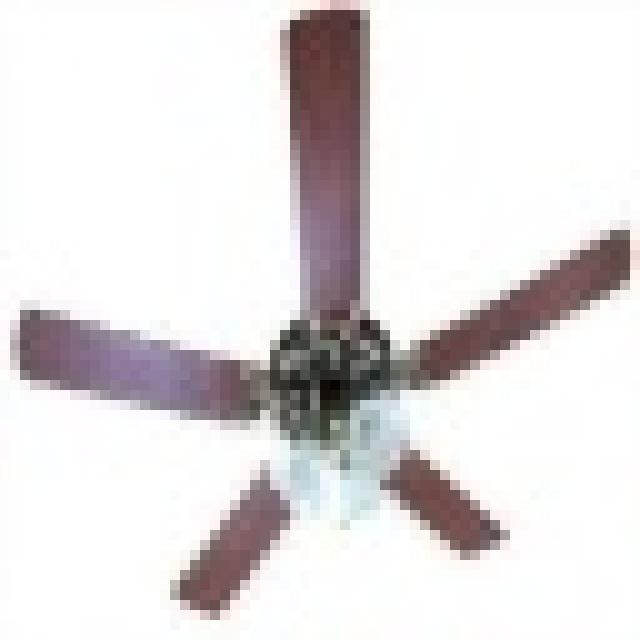Bulb: (26, 21, 635, 591)
